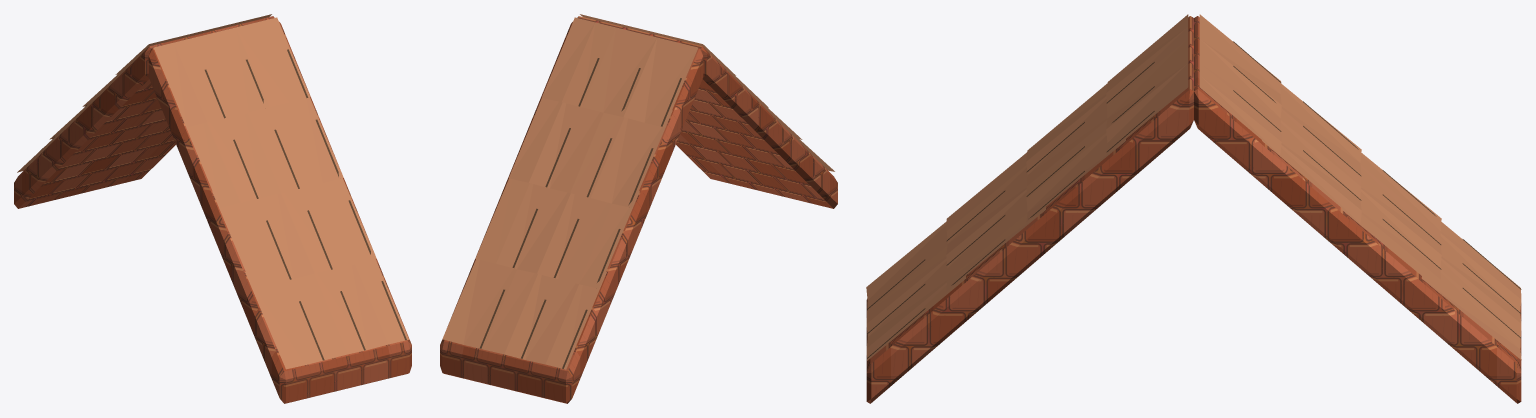
Rendered from SM_HH_Q3_Roof_Entry.fbx.
The picture shows the model from 3 angles, left to right: view 1: azimuth 30°, elevation 25°; view 2: azimuth 150°, elevation 25°; view 3: azimuth 270°, elevation 25°; orthographic projection. The views are drawn at different scales.
Parts seen in each view (by area): view 1: HH_Q3_Roof_Entry; view 2: HH_Q3_Roof_Entry; view 3: HH_Q3_Roof_Entry.
Boxes of the visible parts, left/top/right/bottom form: HH_Q3_Roof_Entry: left=14, top=14, right=411, bottom=403; HH_Q3_Roof_Entry: left=440, top=14, right=837, bottom=403; HH_Q3_Roof_Entry: left=866, top=14, right=1521, bottom=403.
Bounding box in the file's own units: 2.4 × 0.68 × 1.28.
